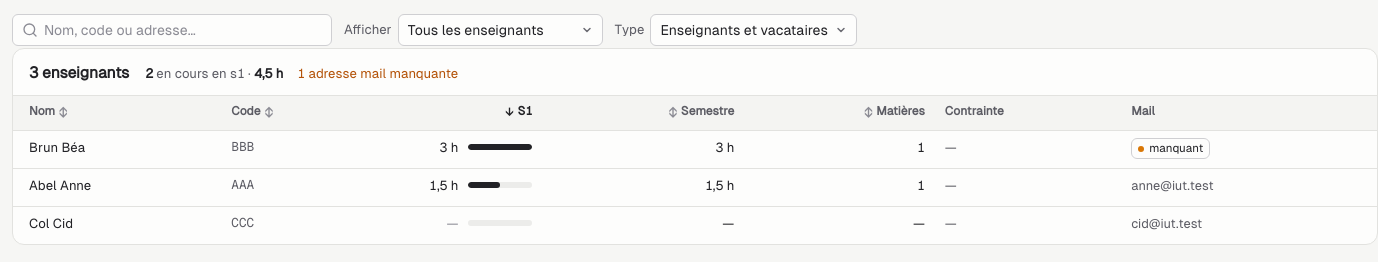
Test: AnnuaireEnseignants › filtre à la frappe, sans tenir compte des accents ni de la casse
The image size is (1378, 262).
Type "bea" into the search field named "Rechercher un enseignant" at (172, 30), box [12,14,332,46]
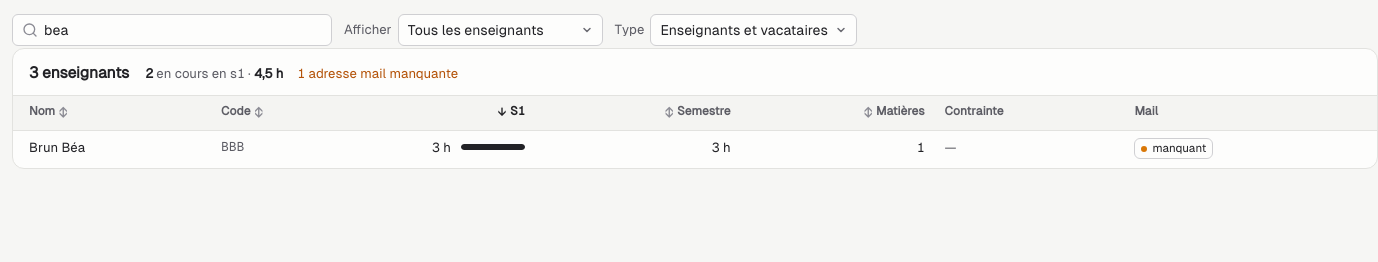
Replace the text in the search field named "Rechercher un enseignant" with "zzz" at (172, 30), box [12,14,332,46]
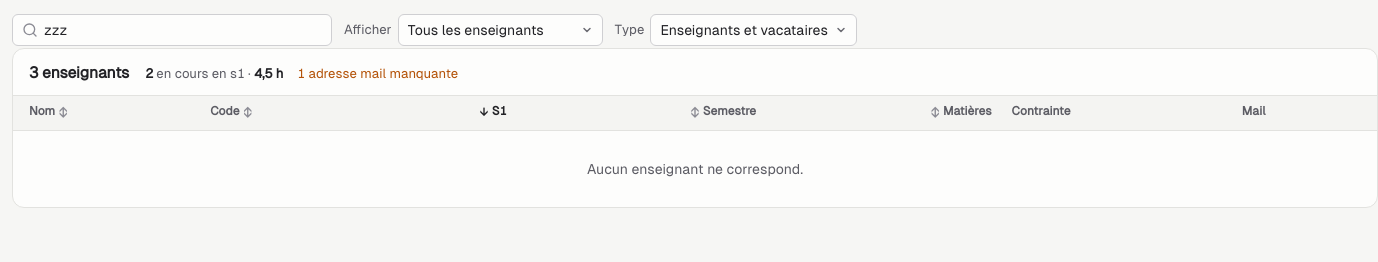
Check: the text "Aucun enseignant ne correspond." is shown, box [587,160,803,176]
